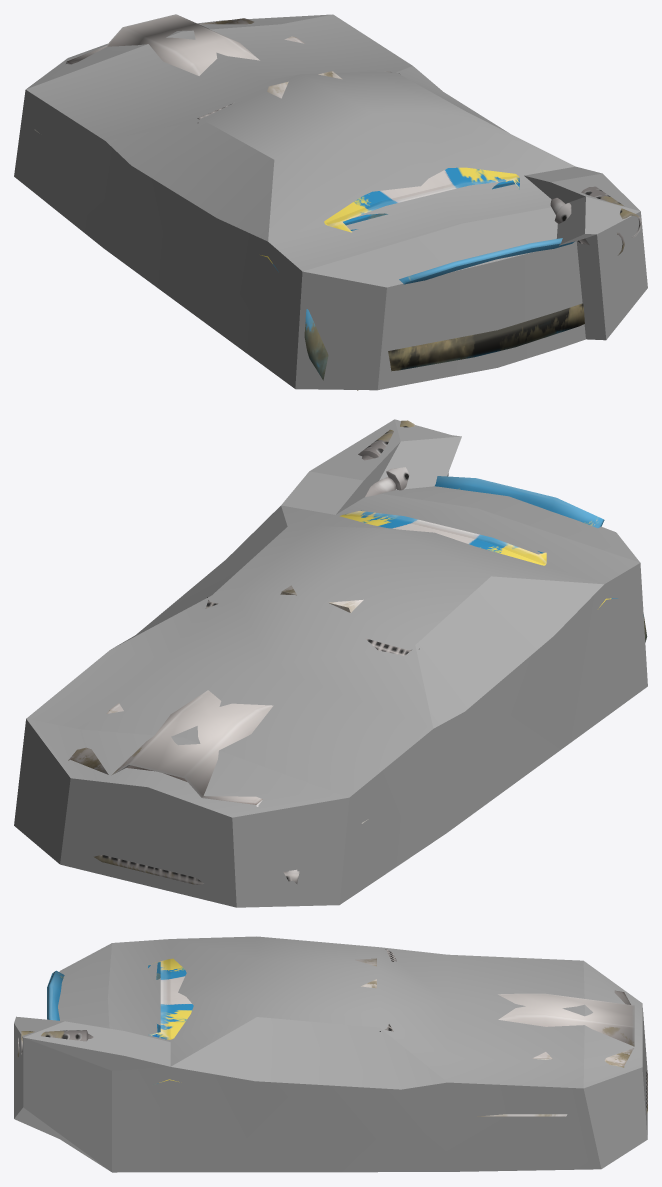
Rendered from Car_circuit.fbx.
3 renders of one model, top to bottom at view 1: azimuth 30°, elevation 25°; view 2: azimuth 150°, elevation 25°; view 3: azimuth 270°, elevation 25°, orthographic. The views are drawn at different scales.
Parts seen in each view (by area): view 1: Sample_Body_Col2, Voiture; view 2: Sample_Body_Col2, Voiture; view 3: Sample_Body_Col2, Voiture.
Boxes of the visible parts, x1,y1,x2,y2 form: Sample_Body_Col2: (14,14,647,390); Voiture: (34,14,641,390); Sample_Body_Col2: (14,419,647,907); Voiture: (68,420,647,884); Sample_Body_Col2: (14,936,647,1172); Voiture: (17,949,647,1116).
Size of the model in its own units: 2.82 by 1.5 by 5.65.
